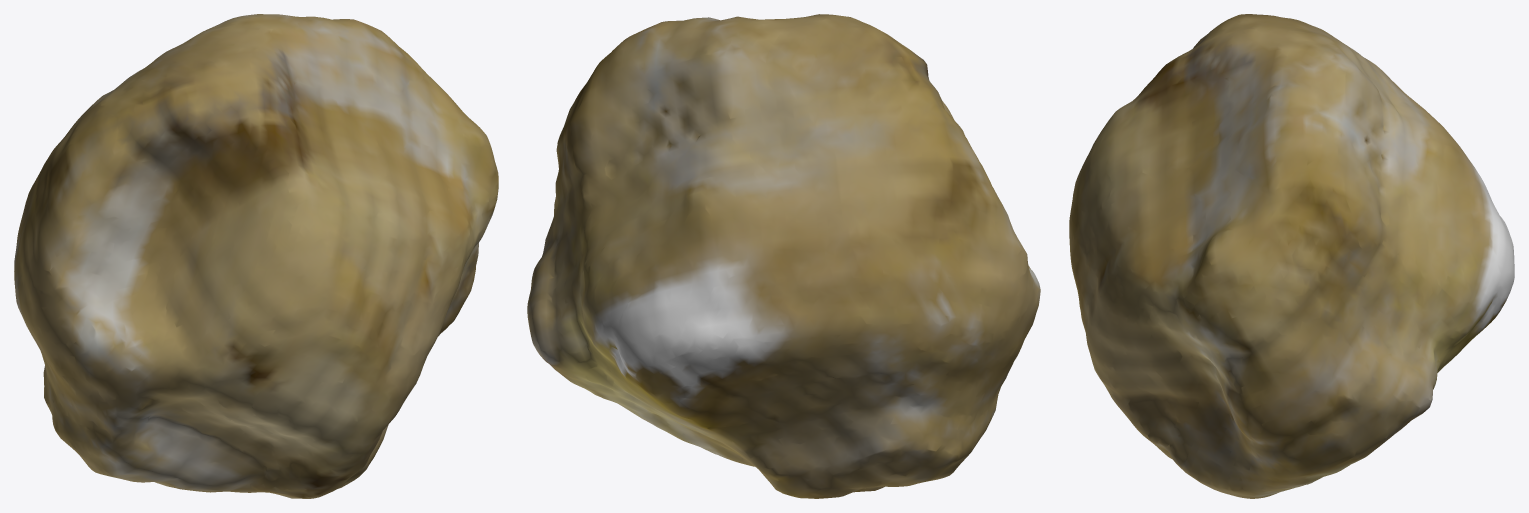
Rendered from hat.glb.
3 views of the same model, side by side, from view 1: azimuth 30°, elevation 25°; view 2: azimuth 150°, elevation 25°; view 3: azimuth 270°, elevation 25° (orthographic). The views are drawn at different scales.
Bounding box in the file's own units: 1 × 0.9657 × 0.9045.
